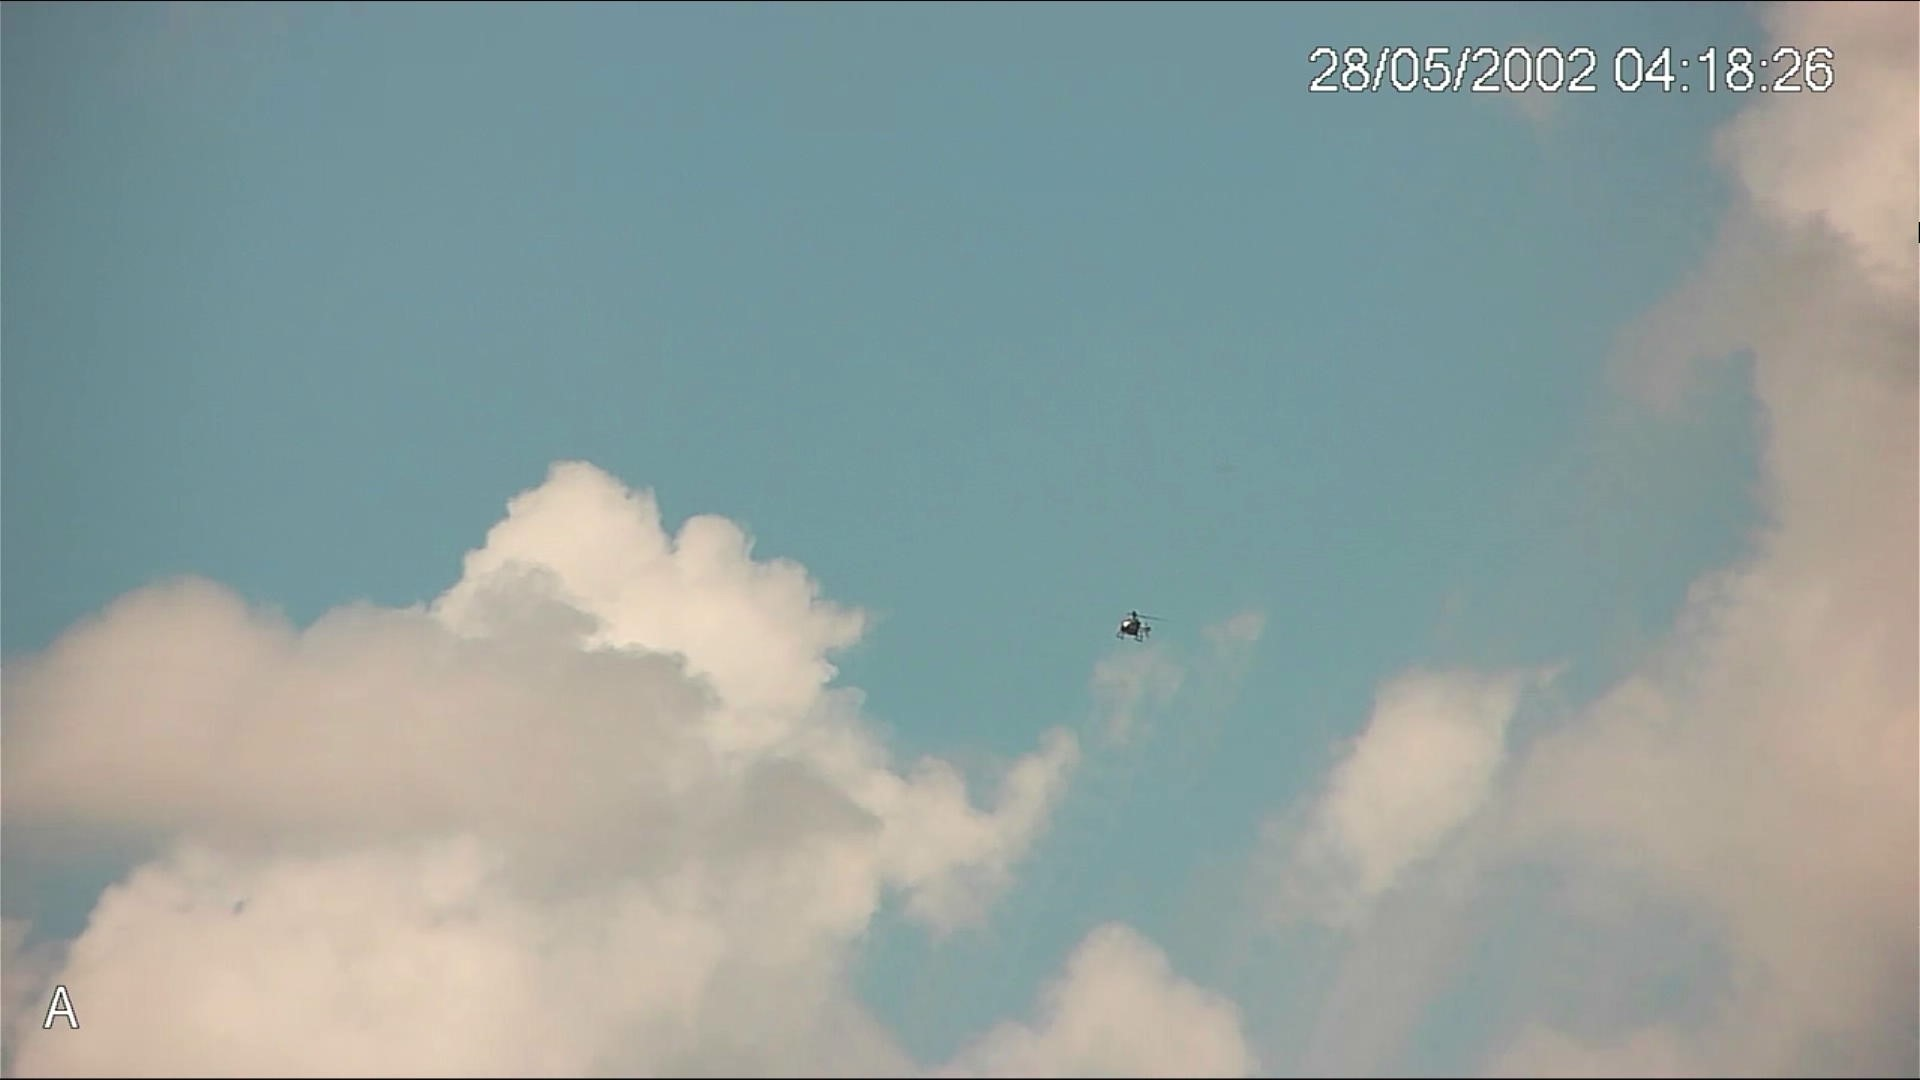SU_30: (1112, 609, 1149, 644)
